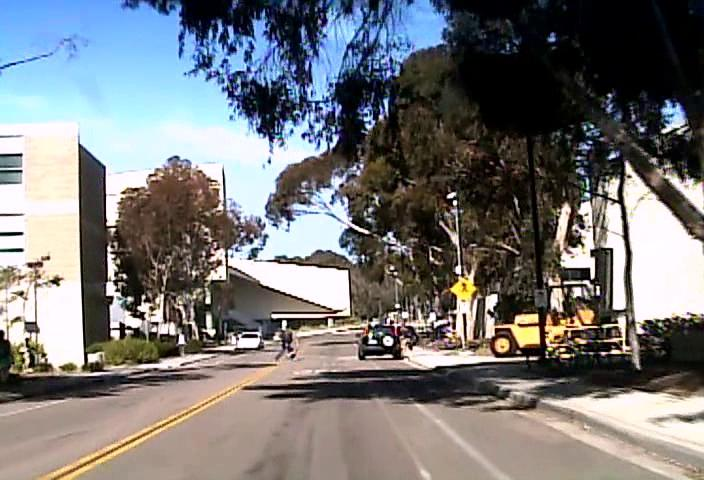pedestrianCrossing: (449, 275, 477, 301)
